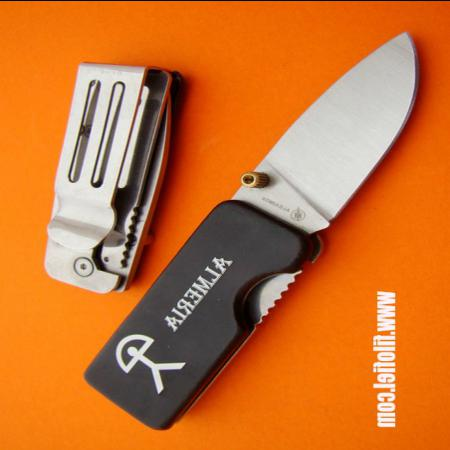long weapon: (228, 21, 428, 236)
